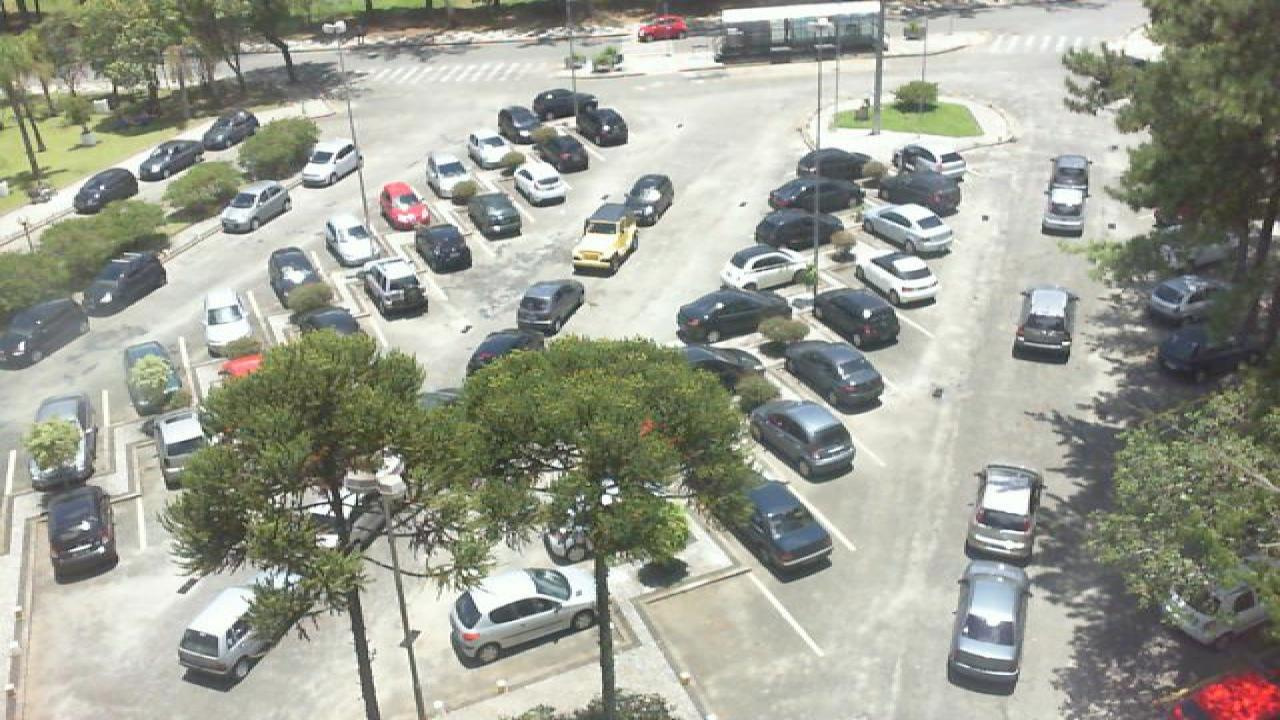Car: (448, 563, 600, 667), (174, 583, 286, 687), (946, 559, 1030, 695), (724, 476, 834, 576), (750, 397, 858, 482), (962, 463, 1046, 562), (782, 337, 886, 413), (22, 392, 98, 487), (42, 484, 116, 580), (672, 286, 792, 345), (0, 297, 88, 369), (812, 287, 904, 352), (1156, 322, 1254, 381), (1010, 283, 1082, 362), (82, 250, 168, 316), (154, 405, 220, 488), (854, 245, 942, 307), (1136, 269, 1230, 327), (118, 336, 184, 417), (860, 202, 958, 256), (570, 200, 640, 274), (752, 208, 862, 250), (196, 287, 260, 358), (874, 170, 966, 218), (716, 243, 810, 289), (516, 278, 588, 338), (360, 255, 426, 318), (218, 179, 294, 233), (764, 175, 864, 215), (264, 246, 330, 304), (890, 142, 968, 189), (322, 212, 384, 268), (70, 166, 142, 214), (410, 223, 474, 273), (298, 137, 362, 187), (464, 190, 526, 241), (510, 156, 572, 207), (424, 150, 482, 204), (136, 138, 206, 182), (794, 144, 870, 183), (622, 172, 676, 226), (1042, 180, 1094, 235), (376, 178, 430, 229), (198, 107, 260, 151), (526, 131, 588, 172), (464, 131, 524, 172), (576, 106, 630, 146), (1046, 153, 1092, 196), (532, 86, 582, 120), (634, 14, 692, 40), (494, 104, 538, 138)
